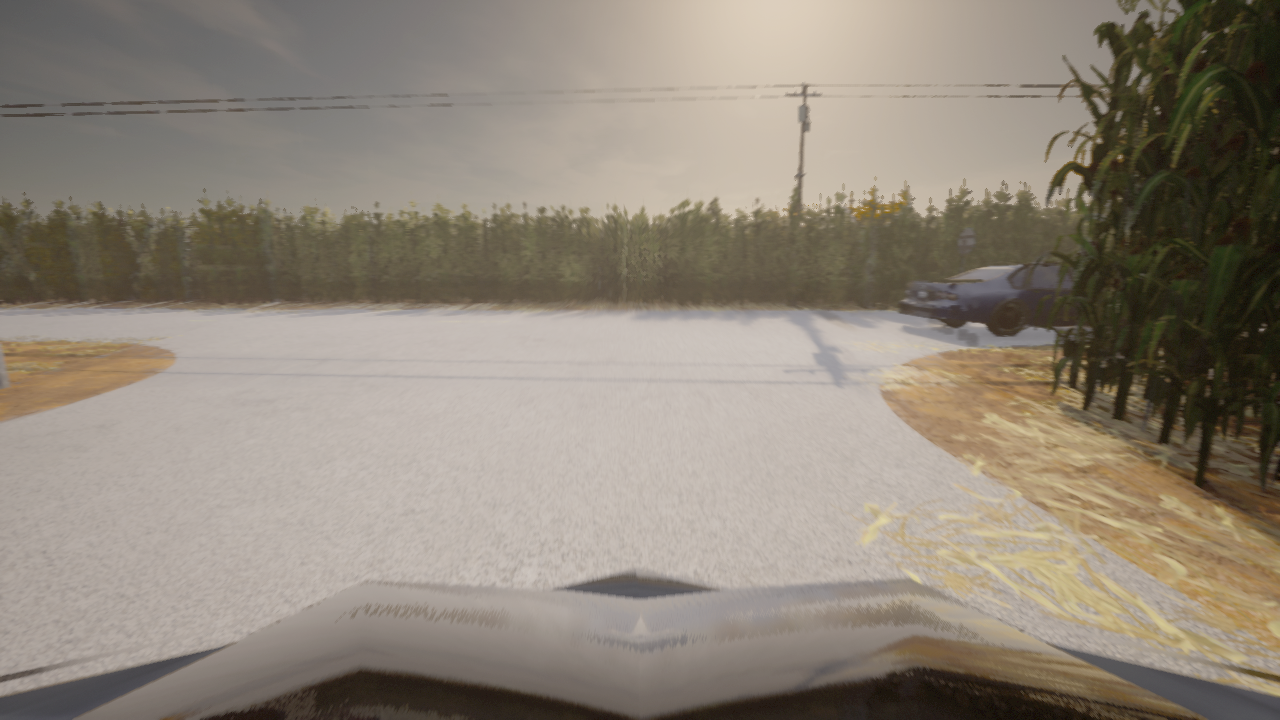cyclist: (0, 569, 1279, 719), (897, 261, 1195, 335)
